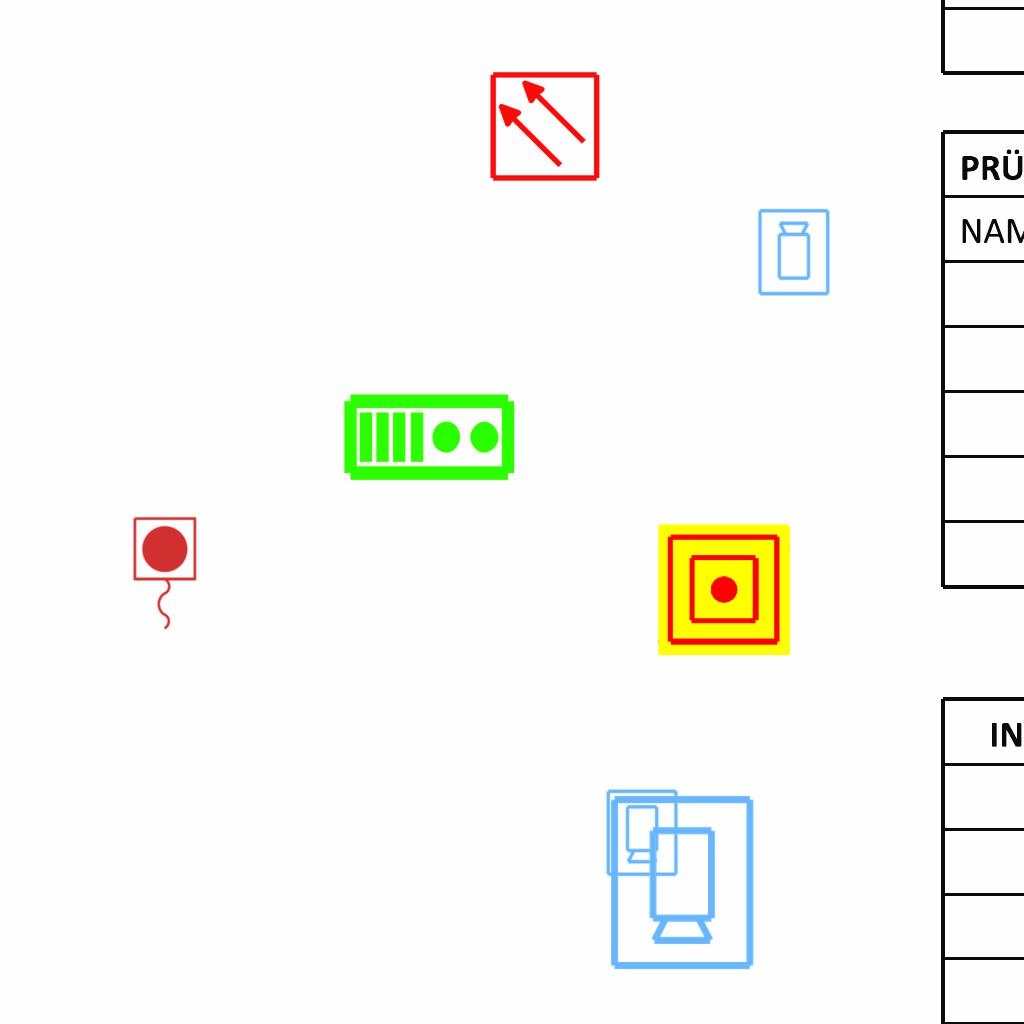Gegensprechanlage_mit_Video: (342, 388, 518, 483)
KFO_Kamera_mit_Festobjektiv: (604, 791, 758, 973), (756, 207, 833, 298), (603, 787, 680, 878)
NAM-Nichtautomatischer_Melder: (658, 524, 790, 656)
RMO_Rauchmelder_optischer: (488, 70, 601, 183)
Zugtaster: (128, 513, 200, 635)
